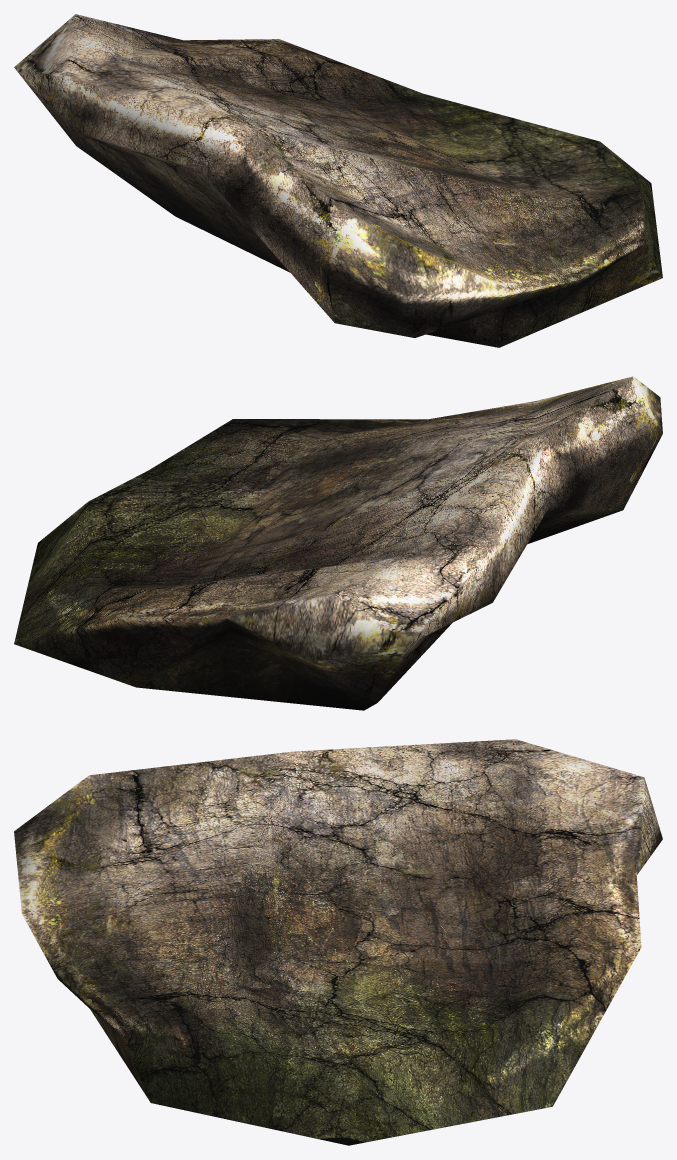
File: rock_008_LOD2.obj
3 renders of one model, top to bottom at view 1: azimuth 30°, elevation 25°; view 2: azimuth 150°, elevation 25°; view 3: azimuth 270°, elevation 25°, orthographic. The views are drawn at different scales.
Visible parts, largest first — view 1: rock_008_LOD2 rock_008; view 2: rock_008_LOD2 rock_008; view 3: rock_008_LOD2 rock_008.
Part boxes in pixels (x1,y1,x2,y2): rock_008_LOD2 rock_008: (14,14,662,347); rock_008_LOD2 rock_008: (14,376,662,710); rock_008_LOD2 rock_008: (14,739,662,1145).
Size of the model in its own units: 610 by 214 by 691.
1 material, 1 textured.
